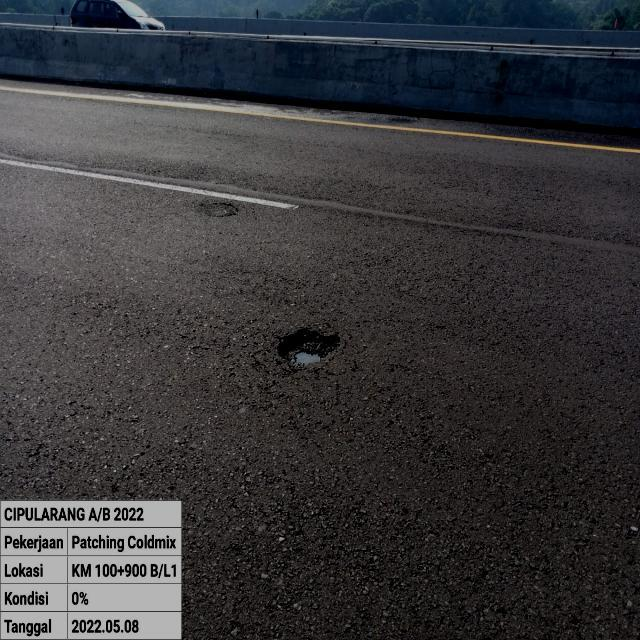Buraco: (268, 324, 347, 371), (382, 112, 420, 125)
